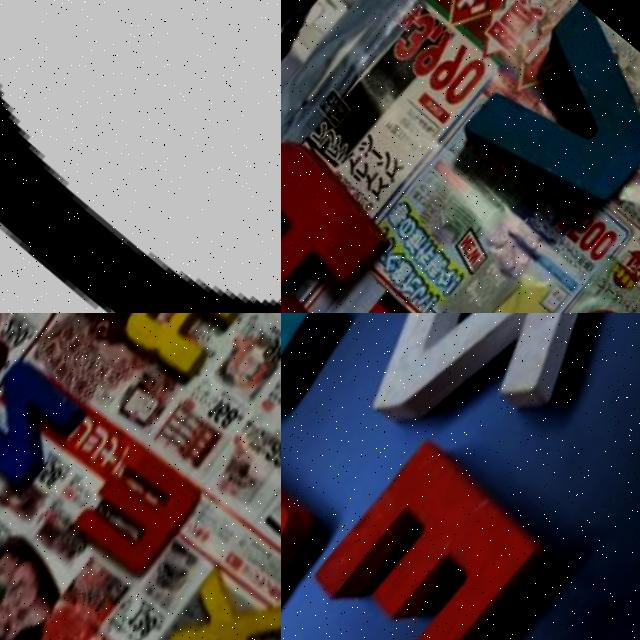A: (281, 122, 401, 313)
D: (281, 313, 360, 452)
E: (281, 420, 583, 640)
N: (0, 348, 92, 492)
R: (99, 313, 253, 385)
V: (446, 0, 640, 236)
W: (52, 439, 202, 582), (281, 421, 340, 638)
X: (142, 556, 281, 640)
Z: (317, 313, 640, 493)
